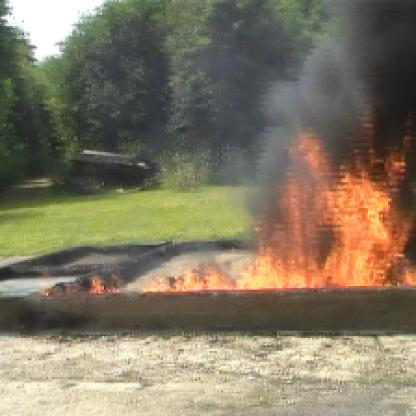Fire: (141, 117, 414, 297)
Smoke: (286, 2, 414, 126)
